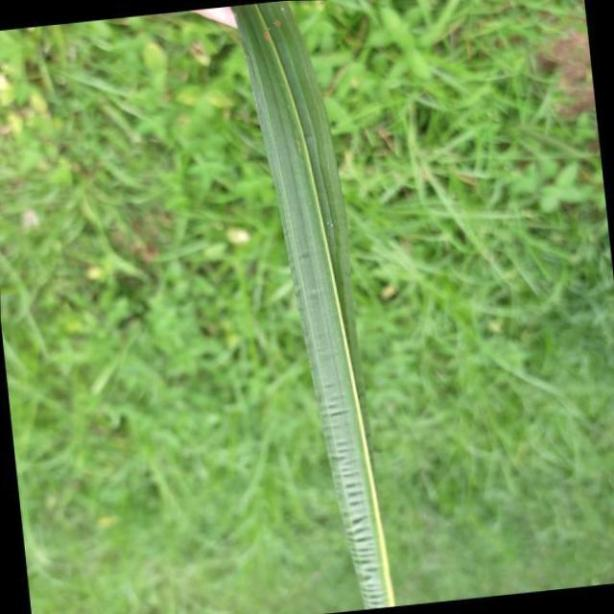Boron: (234, 0, 396, 614)
